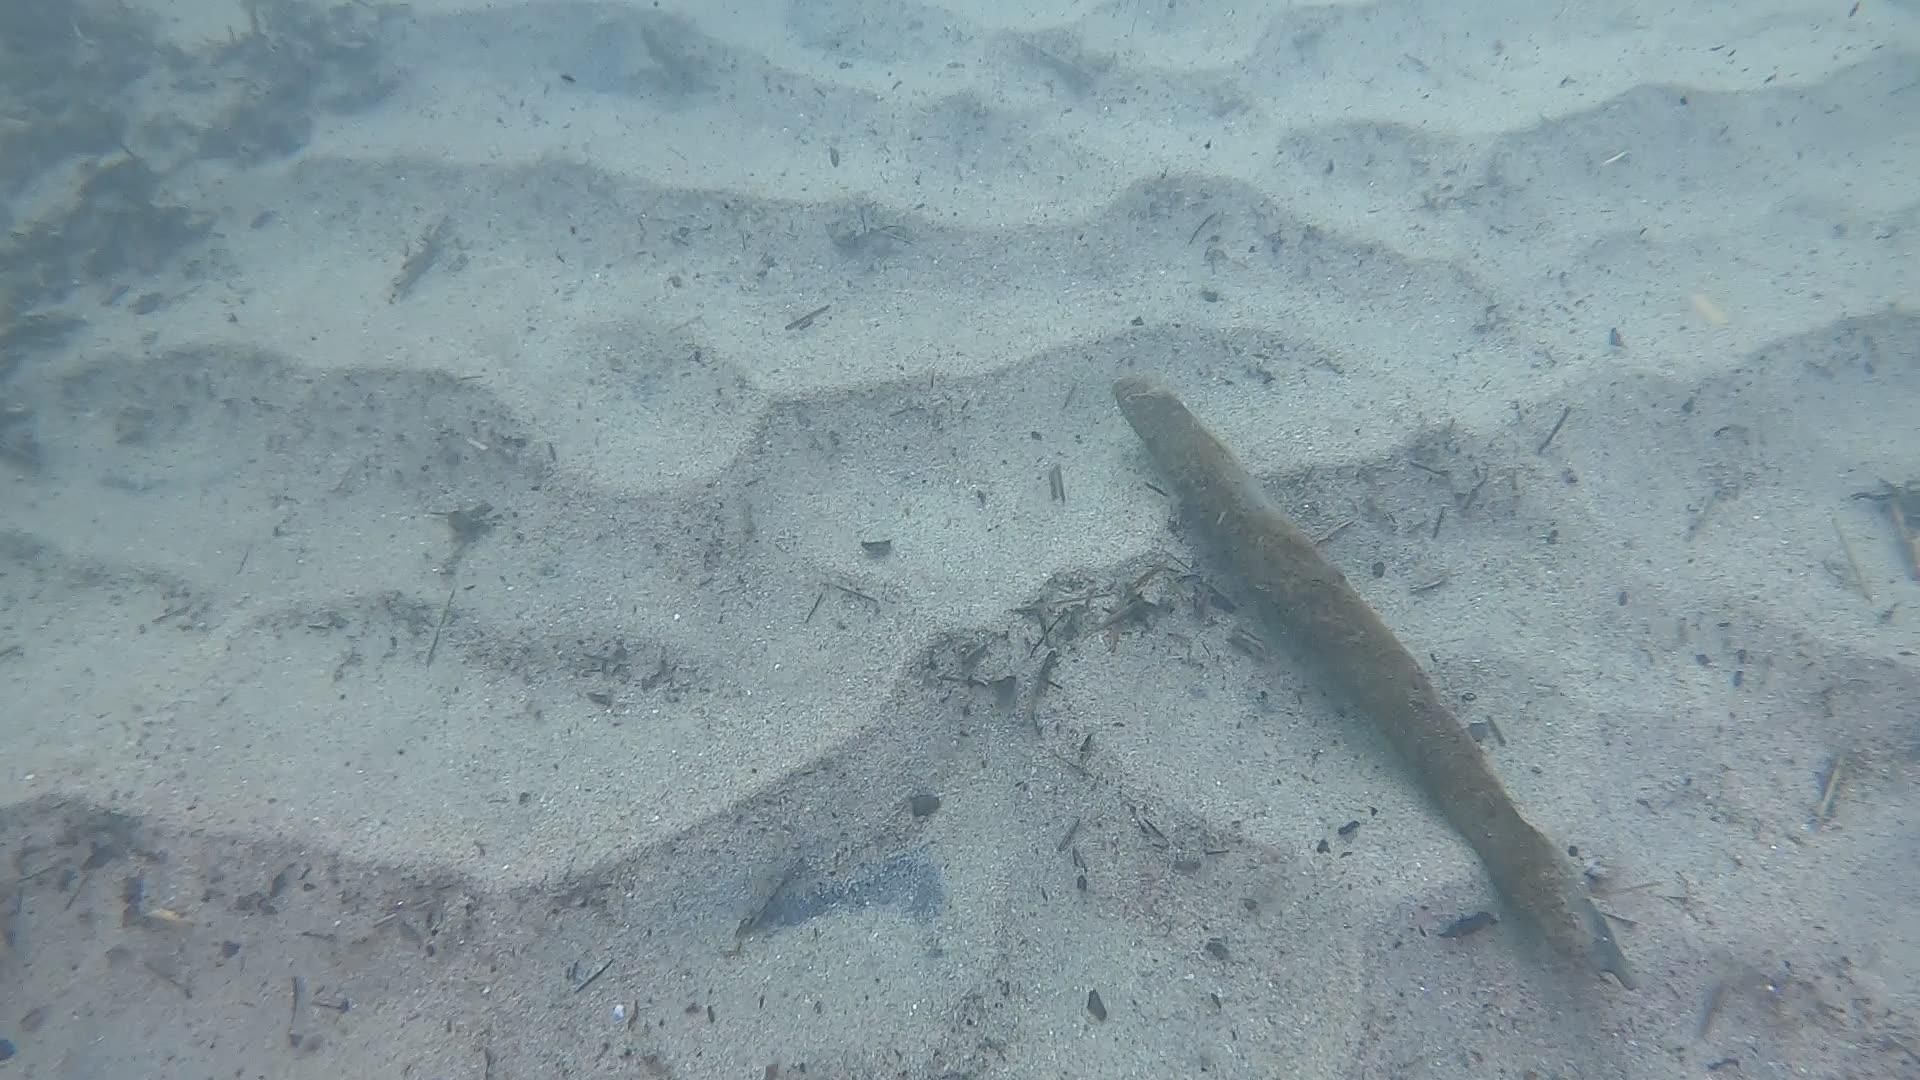wood: (1106, 375, 1633, 985)
